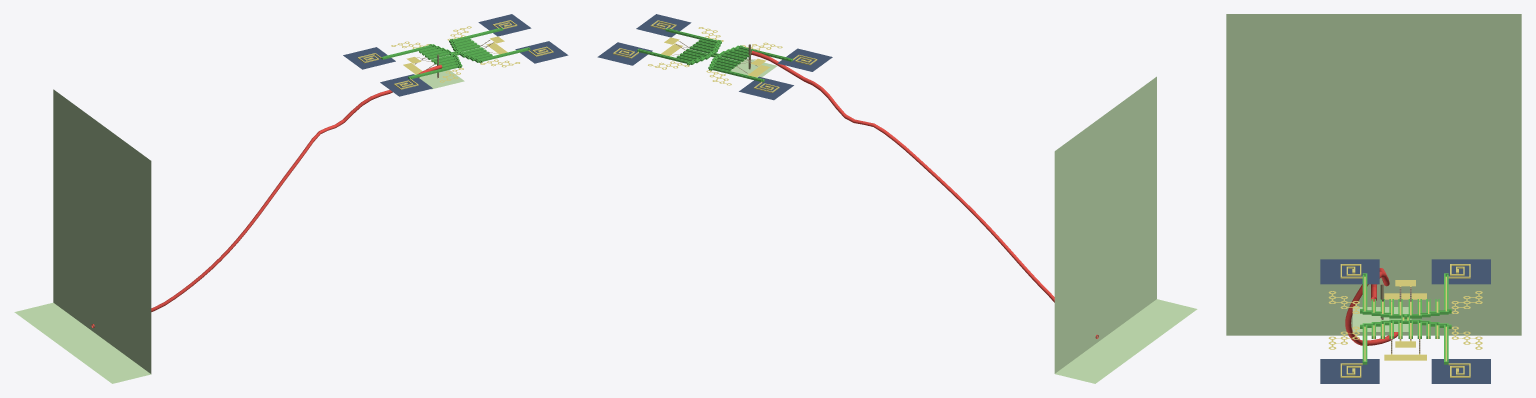
File: maze.glb
3 renders of one model, left to right at view 1: azimuth 30°, elevation 25°; view 2: azimuth 150°, elevation 25°; view 3: azimuth 270°, elevation 25°, orthographic. The views are drawn at different scales.
Visible parts, largest first — view 1: EndOfFlumePlane, Path, FlumeCylinder, EndOfStairsPlane; view 2: EndOfFlumePlane, Path, FlumeCylinder; view 3: EndOfFlumePlane, Path, FlumeCylinder, EndOfStairsPlane.
Part boxes in pixels (left/top/right/bottom): EndOfFlumePlane: left=14, top=89, right=151, bottom=383; Path: left=343, top=14, right=568, bottom=96; FlumeCylinder: left=91, top=64, right=442, bottom=327; EndOfStairsPlane: left=414, top=70, right=464, bottom=89; EndOfFlumePlane: left=1054, top=76, right=1197, bottom=383; Path: left=597, top=14, right=832, bottom=100; FlumeCylinder: left=751, top=50, right=1098, bottom=338; EndOfFlumePlane: left=1226, top=14, right=1521, bottom=335; Path: left=1320, top=259, right=1490, bottom=383; FlumeCylinder: left=1345, top=268, right=1398, bottom=345; EndOfStairsPlane: left=1352, top=307, right=1411, bottom=331.
Size of the model in its own units: 574 by 240 by 200.
